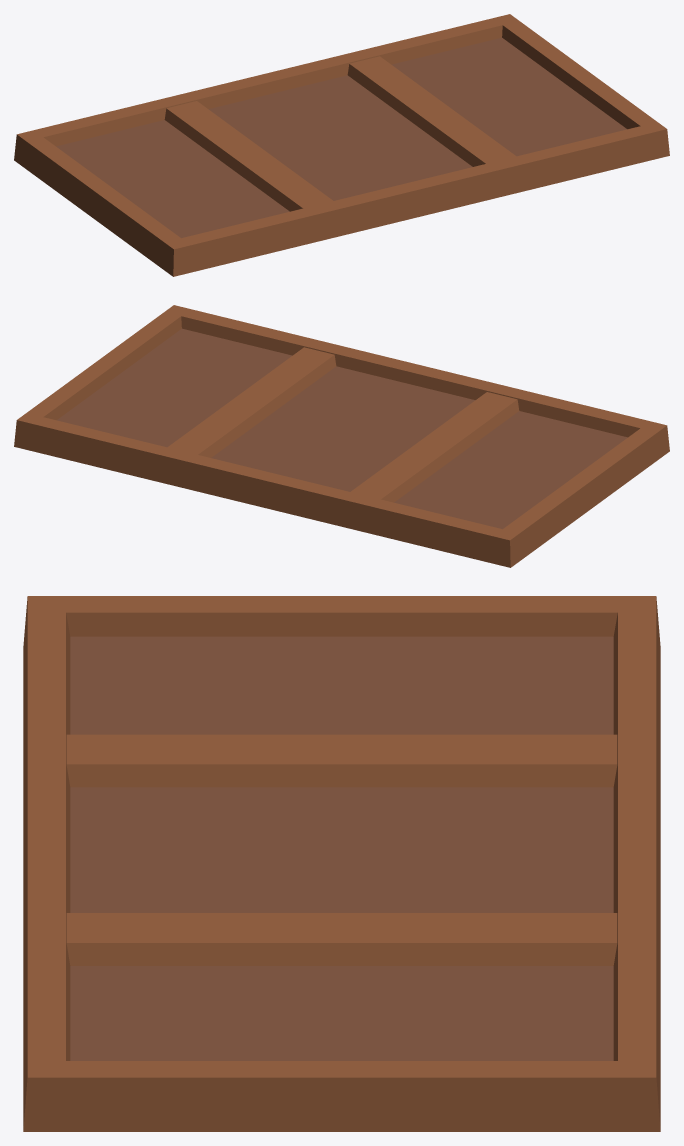
Rendered from Caixa_4_Tampa.fbx.
3 views of the same model, one above another, from view 1: azimuth 30°, elevation 25°; view 2: azimuth 150°, elevation 25°; view 3: azimuth 270°, elevation 25° (orthographic). The views are drawn at different scales.
Parts seen in each view (by area): view 1: Caixa_4_Tampa; view 2: Caixa_4_Tampa; view 3: Caixa_4_Tampa.
Boxes of the visible parts, box(x1,y1,x2,y2) form: Caixa_4_Tampa: box(14, 14, 669, 276); Caixa_4_Tampa: box(14, 305, 669, 567); Caixa_4_Tampa: box(23, 596, 660, 1131).
Bounding box in the file's own units: 0.7997 × 1.44 × 0.0751.
